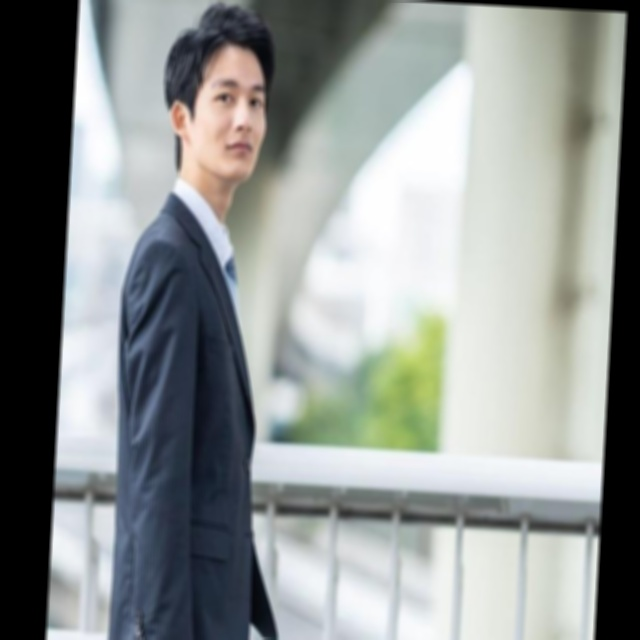Sin_Casco_Mascarrilla: (158, 0, 280, 189)
Sin_Chaleco: (99, 199, 265, 640)
